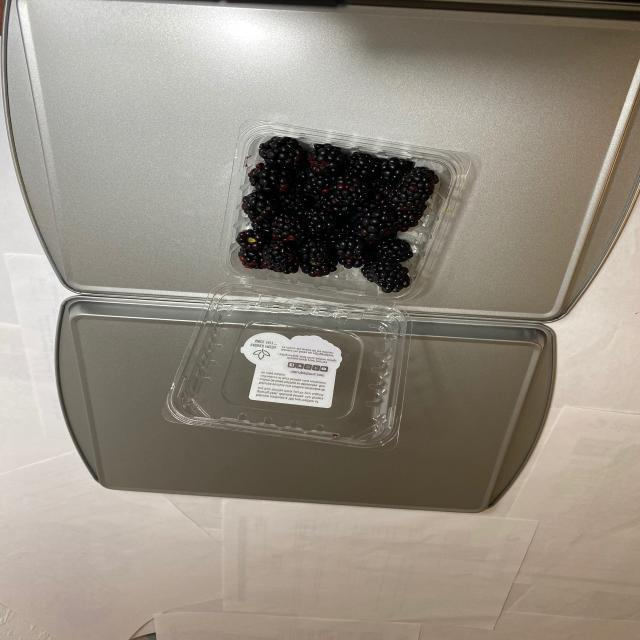blackberries: (240, 134, 412, 296)
